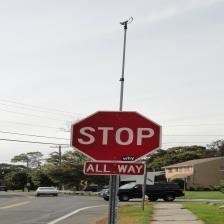Stop-sign: (68, 105, 164, 175)
